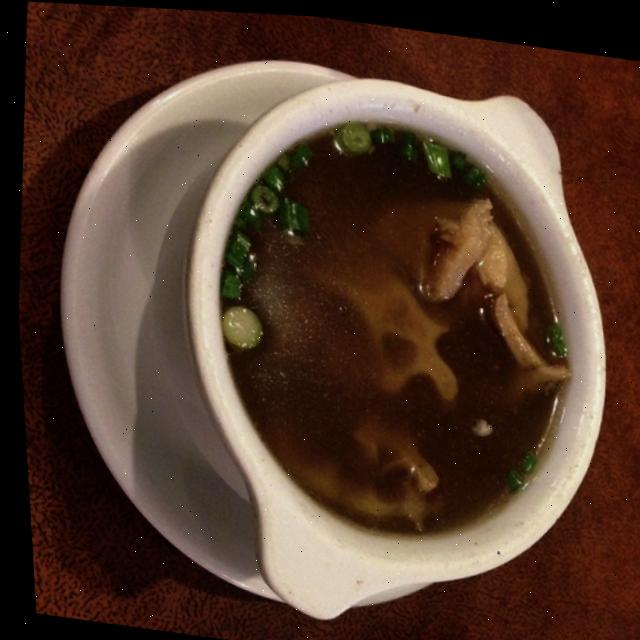汤锅炖物: (117, 48, 634, 605)
